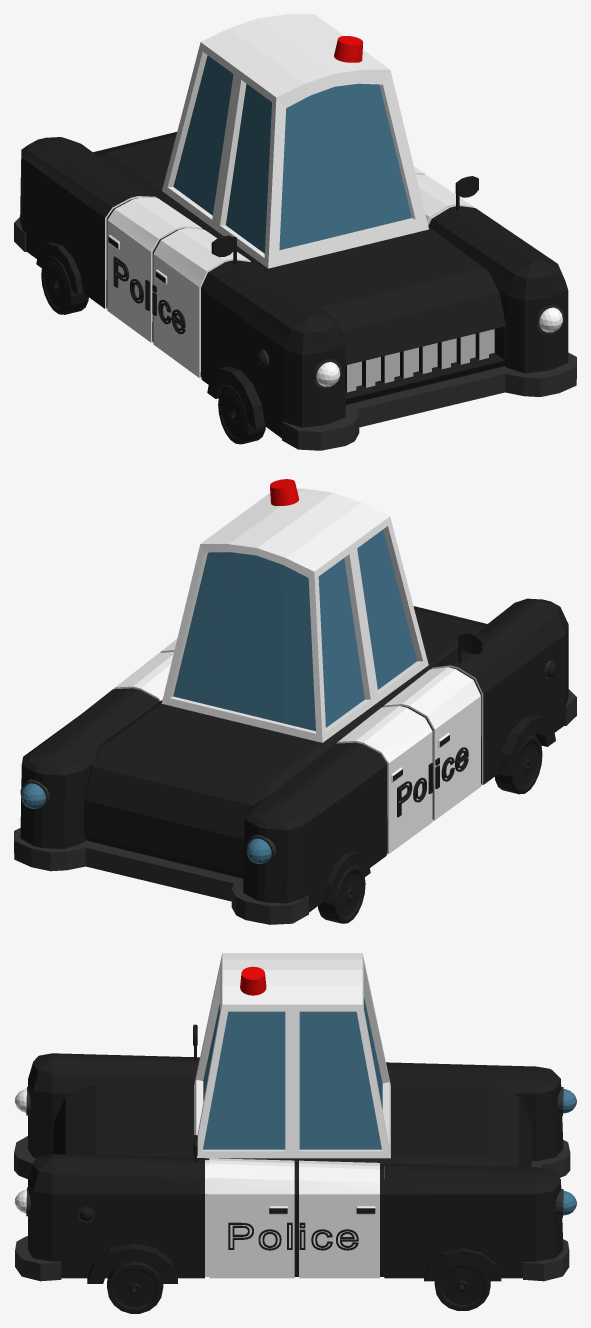
The model's file is PoliceCar_1396.gltf.
The picture shows the model from 3 angles, top to bottom: view 1: azimuth 30°, elevation 25°; view 2: azimuth 150°, elevation 25°; view 3: azimuth 270°, elevation 25°; orthographic projection. The views are drawn at different scales.
Visible parts, largest first — view 1: node-0; view 2: node-0; view 3: node-0.
Boxes of the visible parts, x1,y1,x2,y2 form: node-0: (14,14,576,450); node-0: (14,479,576,924); node-0: (14,953,576,1313).
Size of the model in its own units: 36.21 by 35.78 by 63.04.
